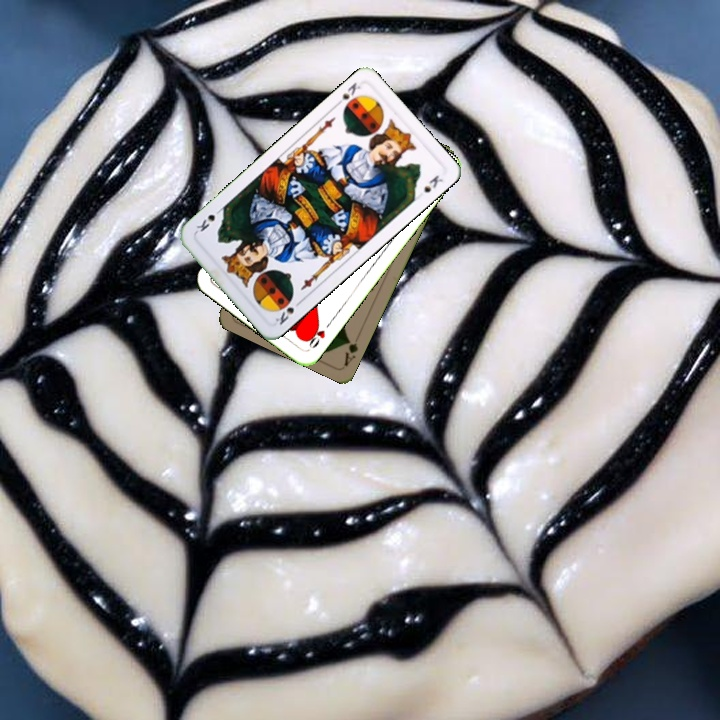GA: (340, 335, 361, 368)
HO: (302, 317, 334, 352)
SK: (271, 296, 305, 328), (331, 78, 363, 110)
